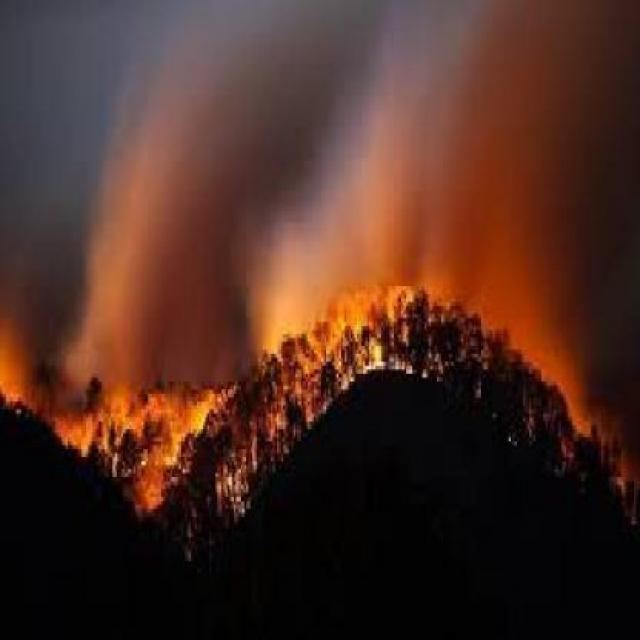Fire: (56, 314, 331, 570)
Smoke: (15, 5, 636, 266)
